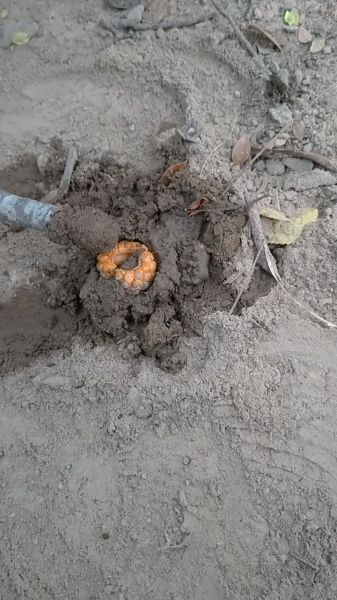eggs: (84, 231, 165, 302)
